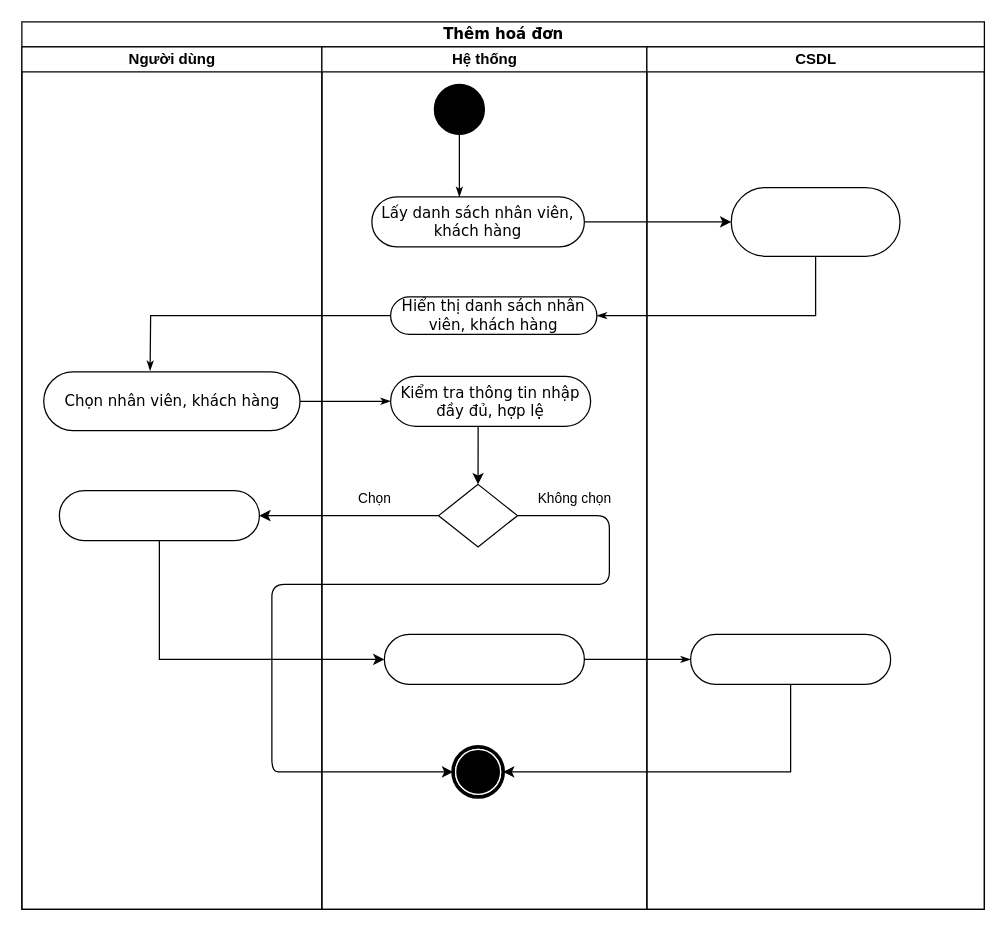
This 1006x931 diagram has some shape labels left out. The shapes that lost their labels are listed below. From the top down, each one's centre as x and y in pixels, then its label:
At (815,221): "Truy xuất danh sách nhân viên, khách hàng".
At (158,515): "Chọn thêm hoá đơn".
At (483,658): "Tạo hoá đơn".
At (790,658): "Lưu hoá đơn".
